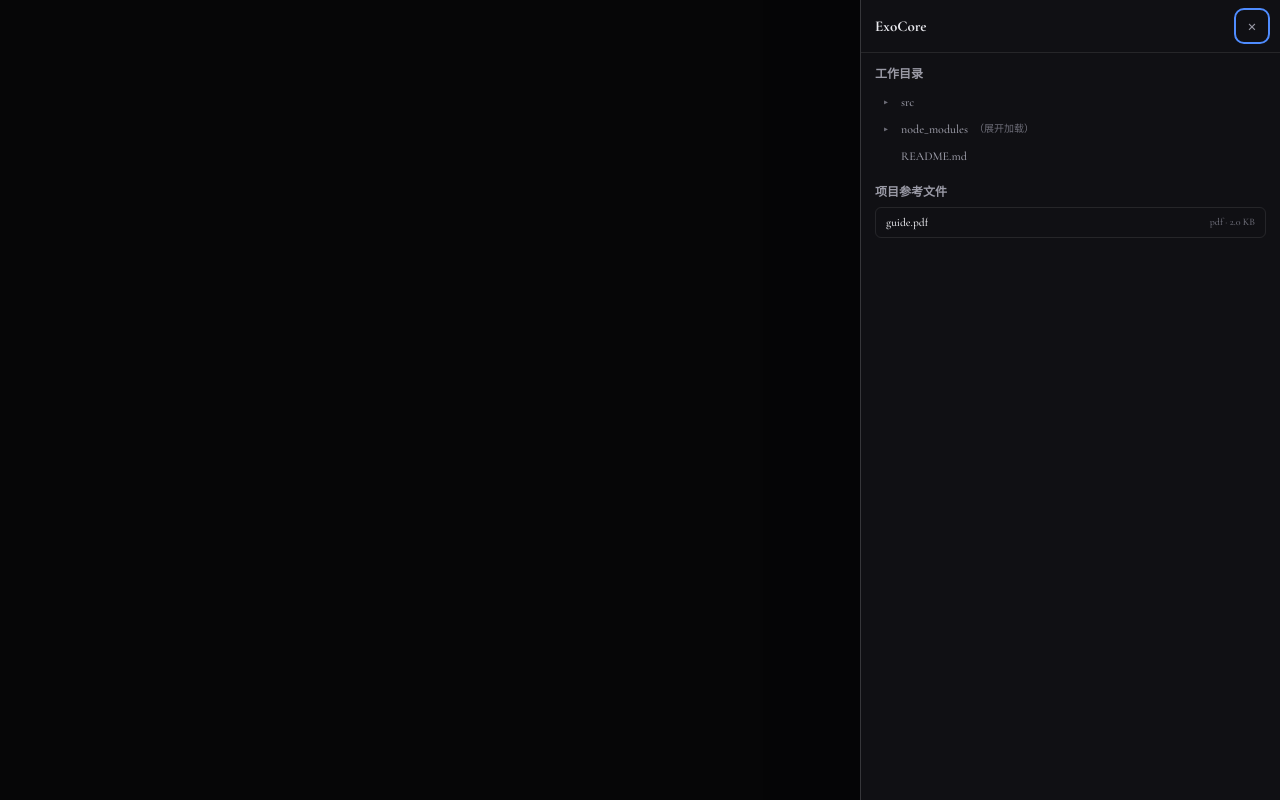
P1D project files drawer (Plan Task 5 / §6.6, §8.5) › shows read-only uploaded references separately from the work-dir tree
Expected: the text "guide.pdf" is shown, [886,214,928,231]
Expected: the text "README.md" is shown, [901,147,967,165]
Click the text "src" at (908,102), box [901,93,914,111]
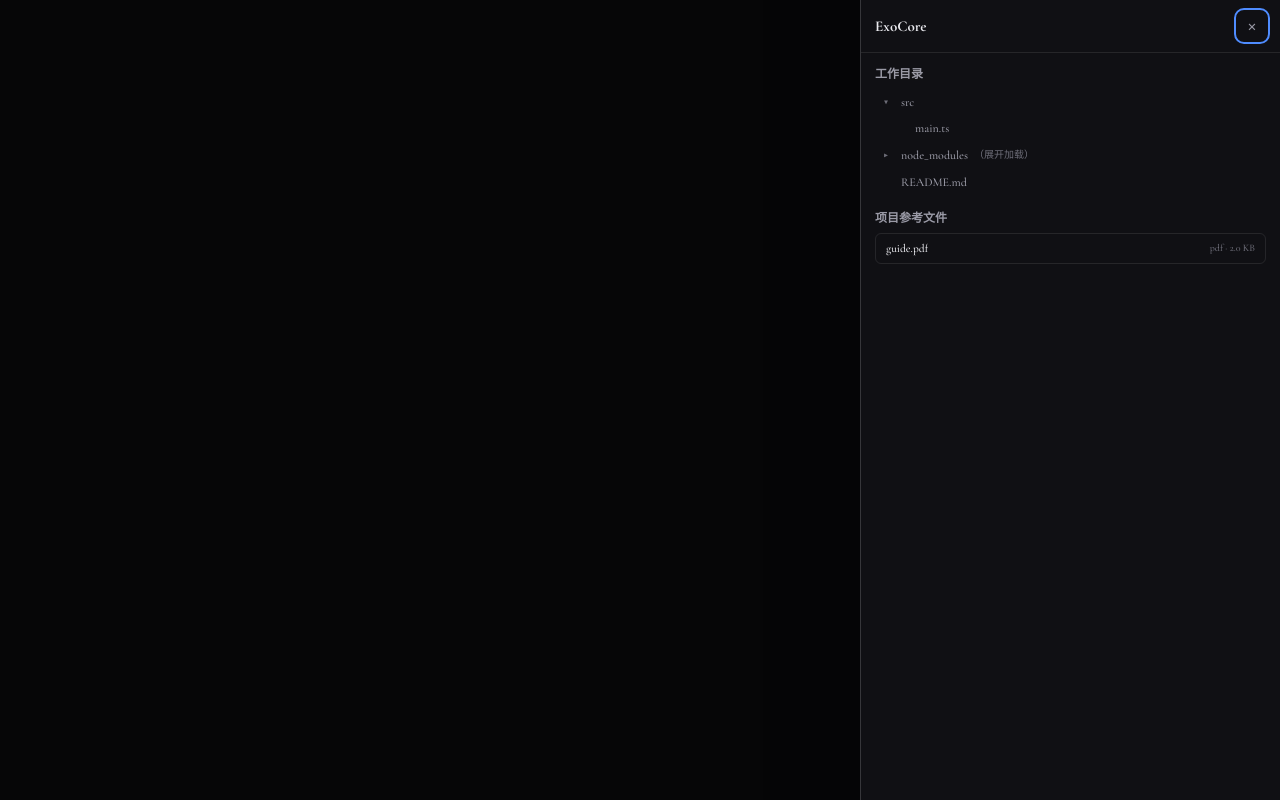
Result: the text "main.ts" is shown at [915,119,949,137]
